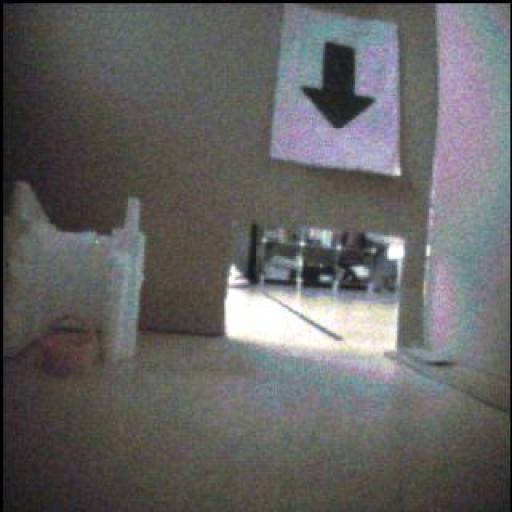arrow: (304, 43, 376, 129)
